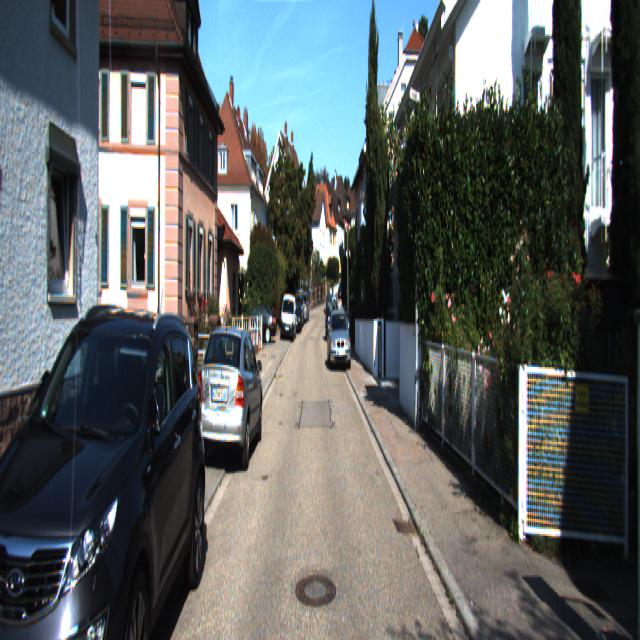Car: (0, 270, 212, 638), (193, 321, 264, 473), (327, 310, 352, 376), (280, 292, 297, 341)
